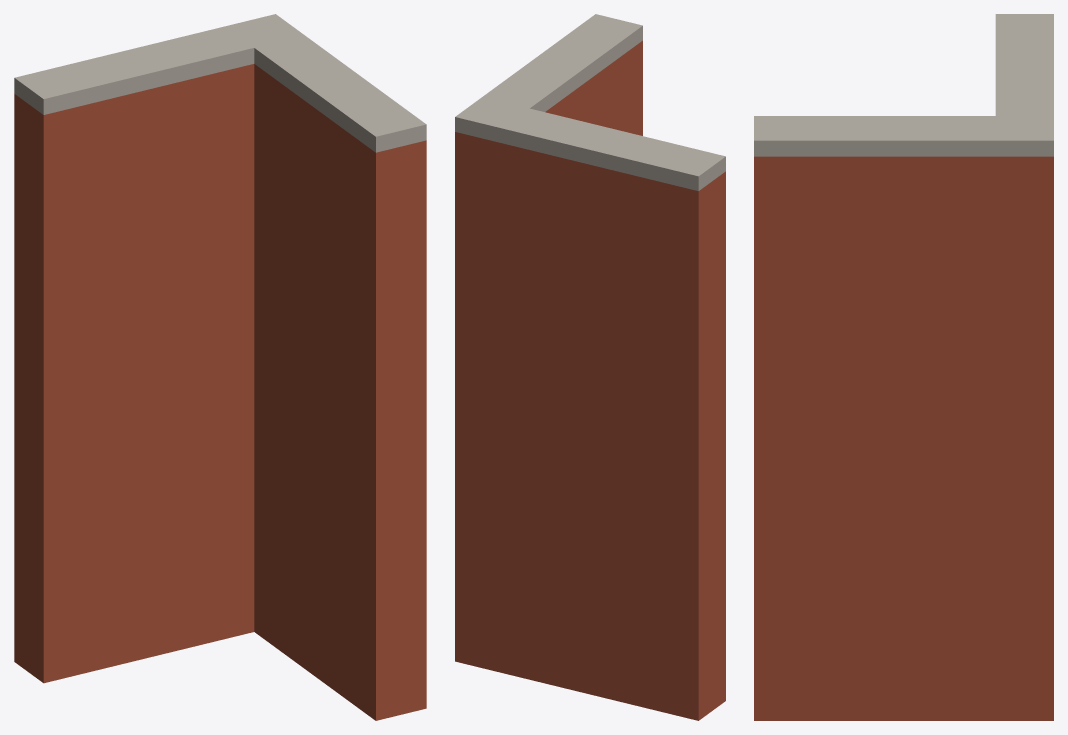
The model's file is raum_wand_ecke.glb.
3 renders of one model, left to right at view 1: azimuth 30°, elevation 25°; view 2: azimuth 150°, elevation 25°; view 3: azimuth 270°, elevation 25°, orthographic. The views are drawn at different scales.
Visible parts, largest first — view 1: raum_wand_ecke; view 2: raum_wand_ecke; view 3: raum_wand_ecke.
Boxes of the visible parts, x1,y1,x2,y2 form: raum_wand_ecke: (14,14,426,720); raum_wand_ecke: (455,14,725,720); raum_wand_ecke: (754,14,1053,720).
Bounding box in the file's own units: 1.03 × 2.2 × 1.03.
